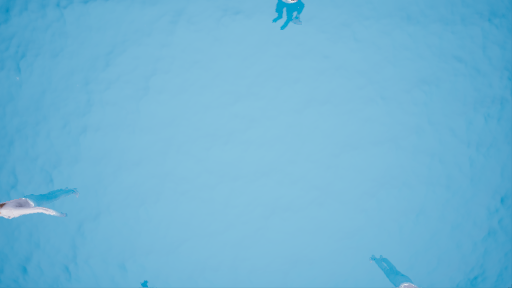person: (2, 184, 83, 232)
